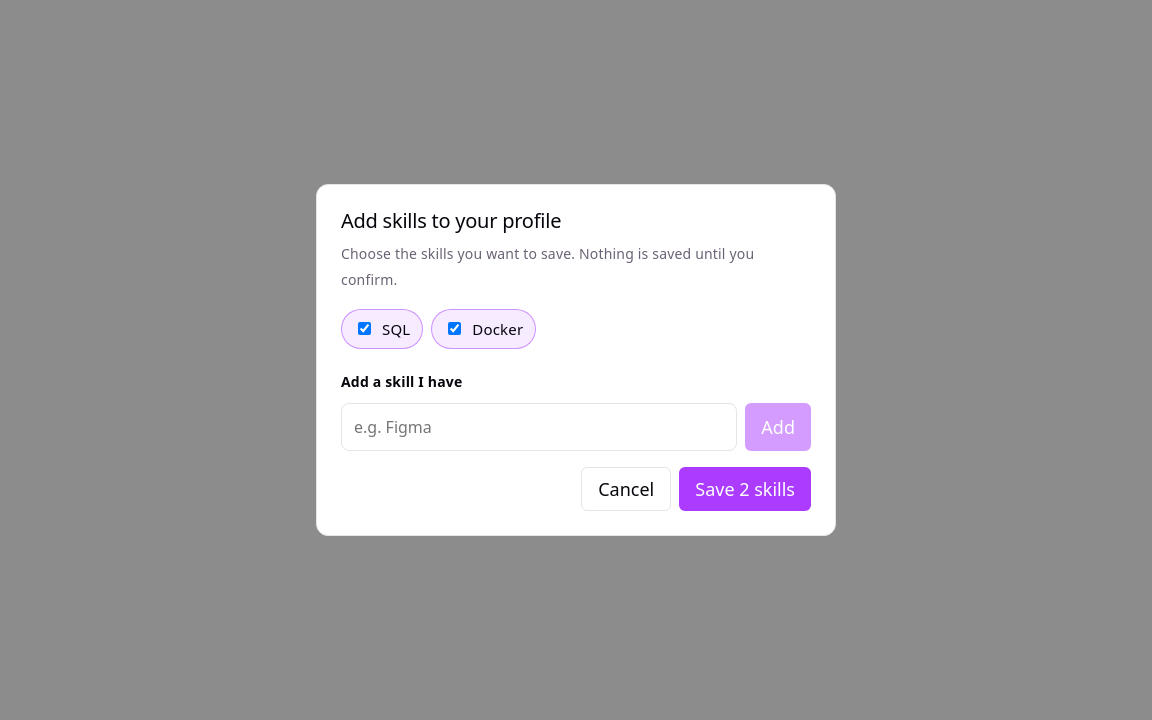
Test case: AddToProfileModal › disables the buttons while saving
Click the button "Save 2 skills".
click(745, 489)  # box [679,467,811,511]
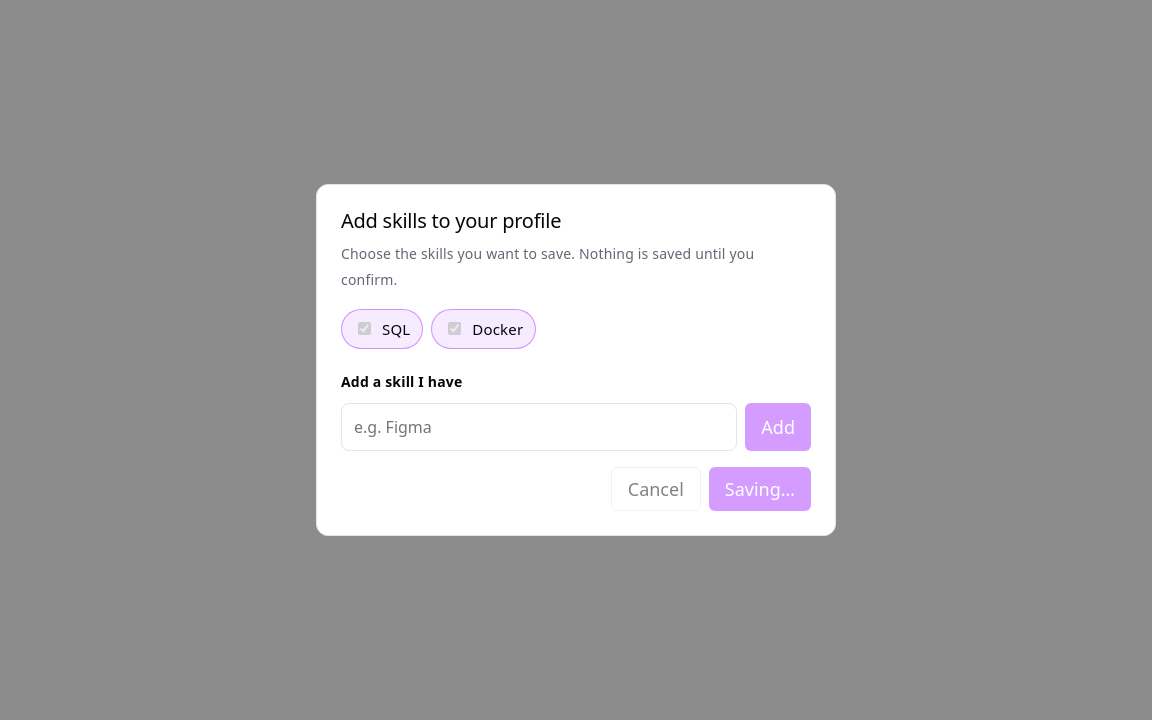
Now the button "Saving…" is disabled, box [709,467,811,511]
Now the button "Cancel" is disabled, box [611,467,701,511]
